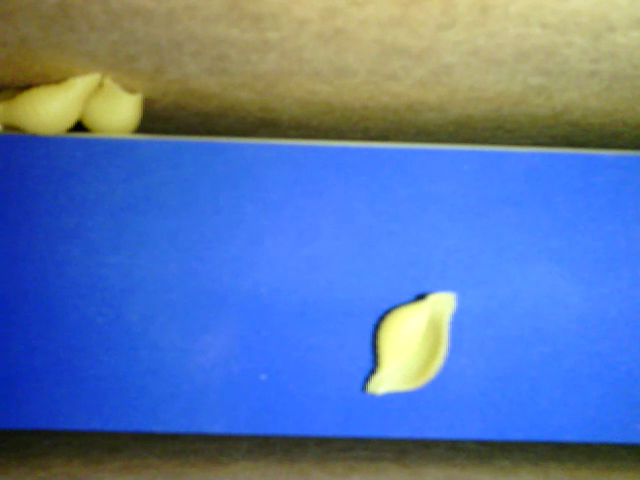shell: (360, 290, 456, 398), (2, 76, 101, 133), (84, 75, 145, 136)
